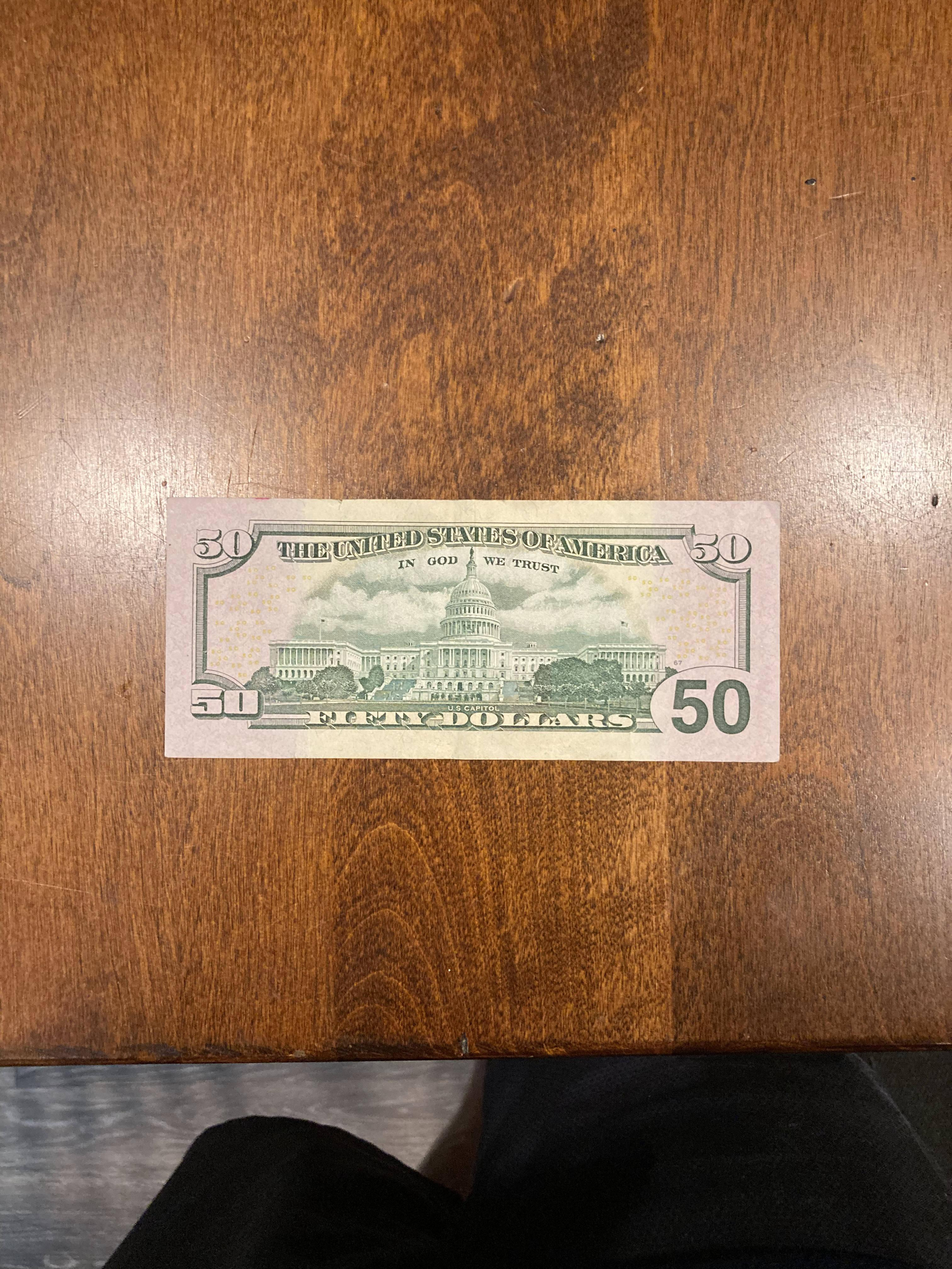fifty-back: (162, 497, 783, 764)
